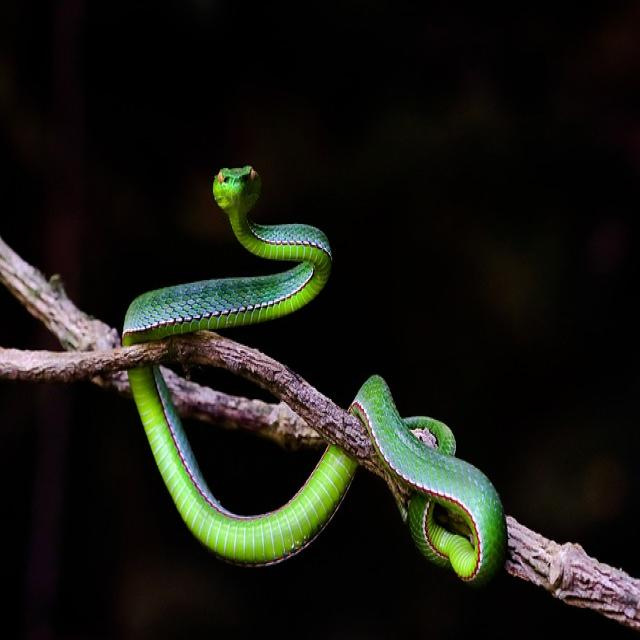Carnivorous: (125, 366, 360, 570), (118, 167, 333, 347), (347, 375, 520, 591)
